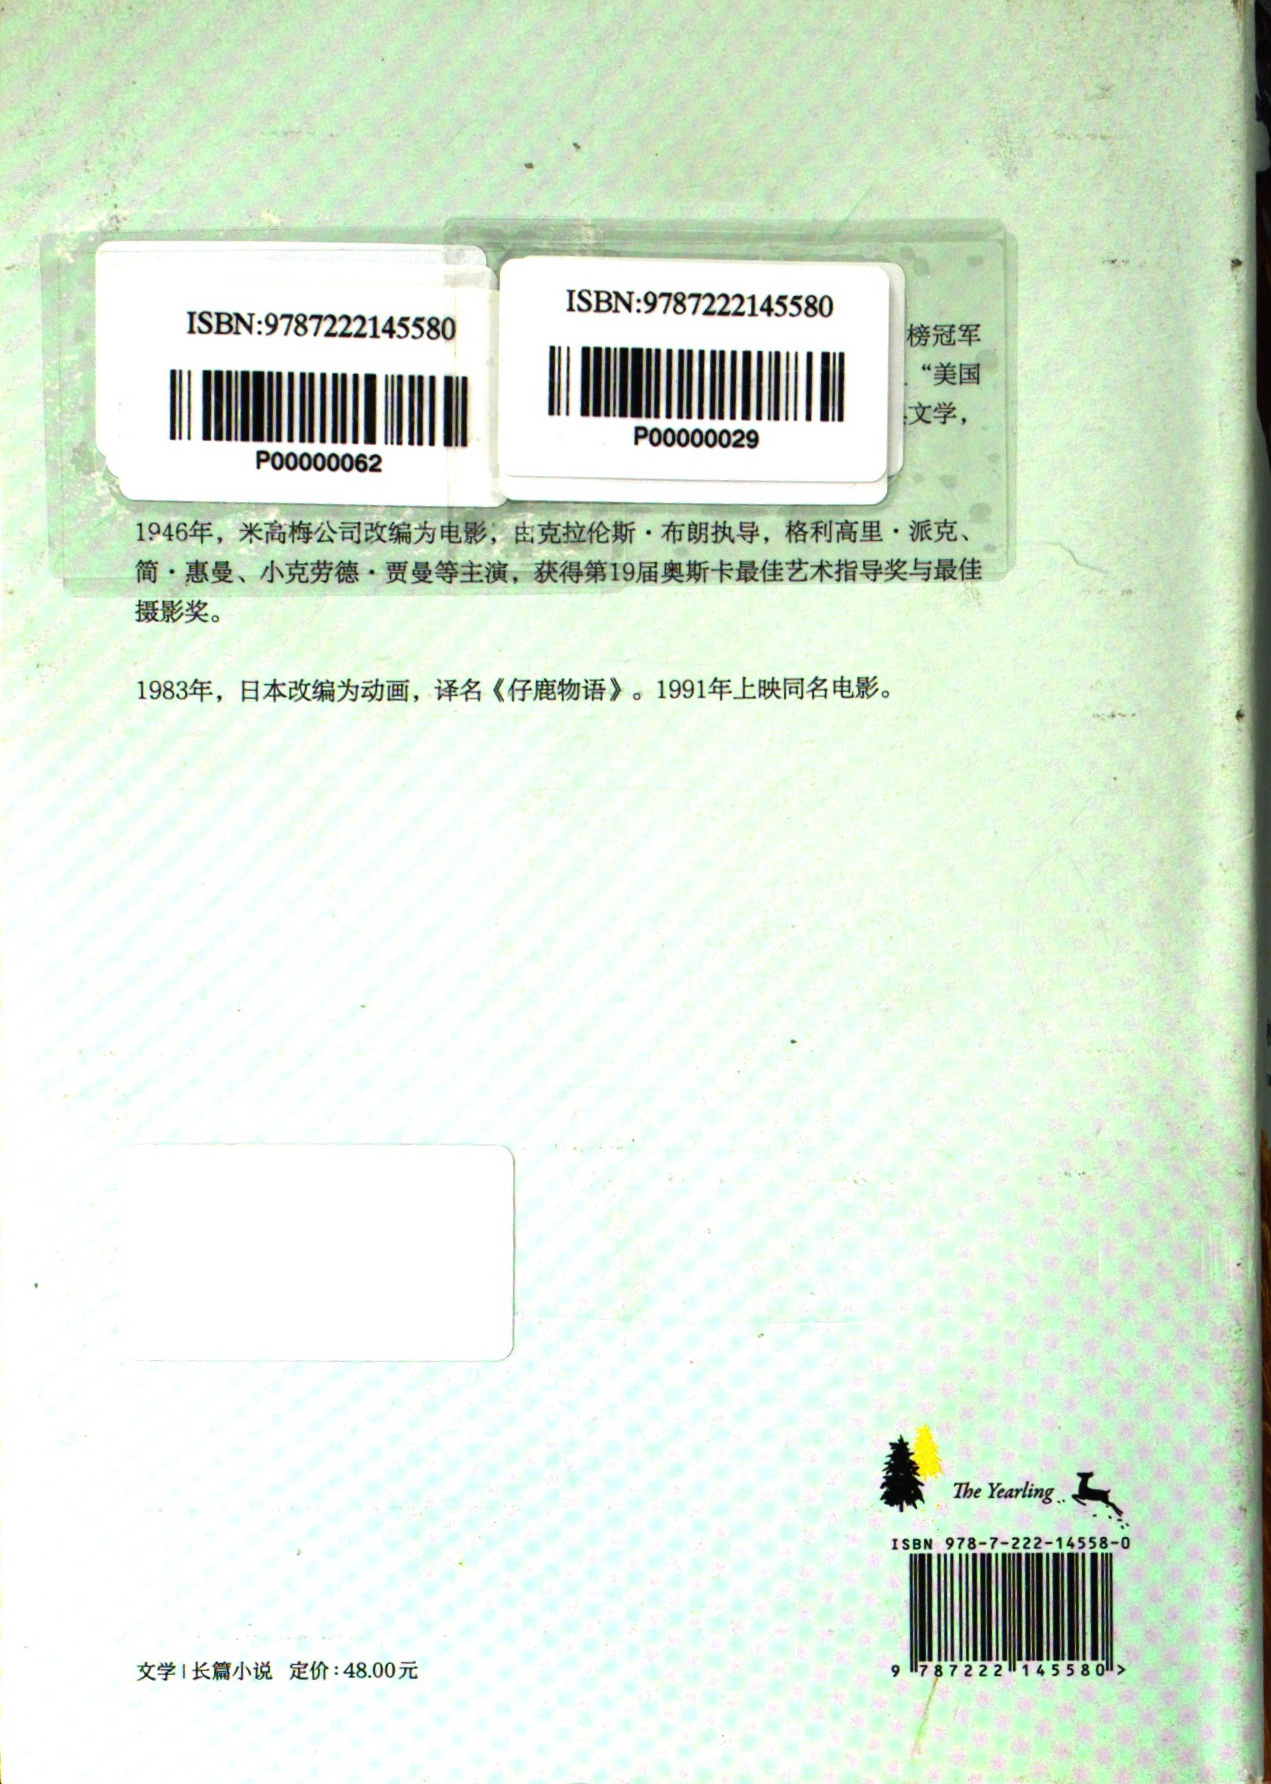barcode: (542, 270, 889, 480), (138, 282, 484, 480), (853, 1524, 1186, 1682)
